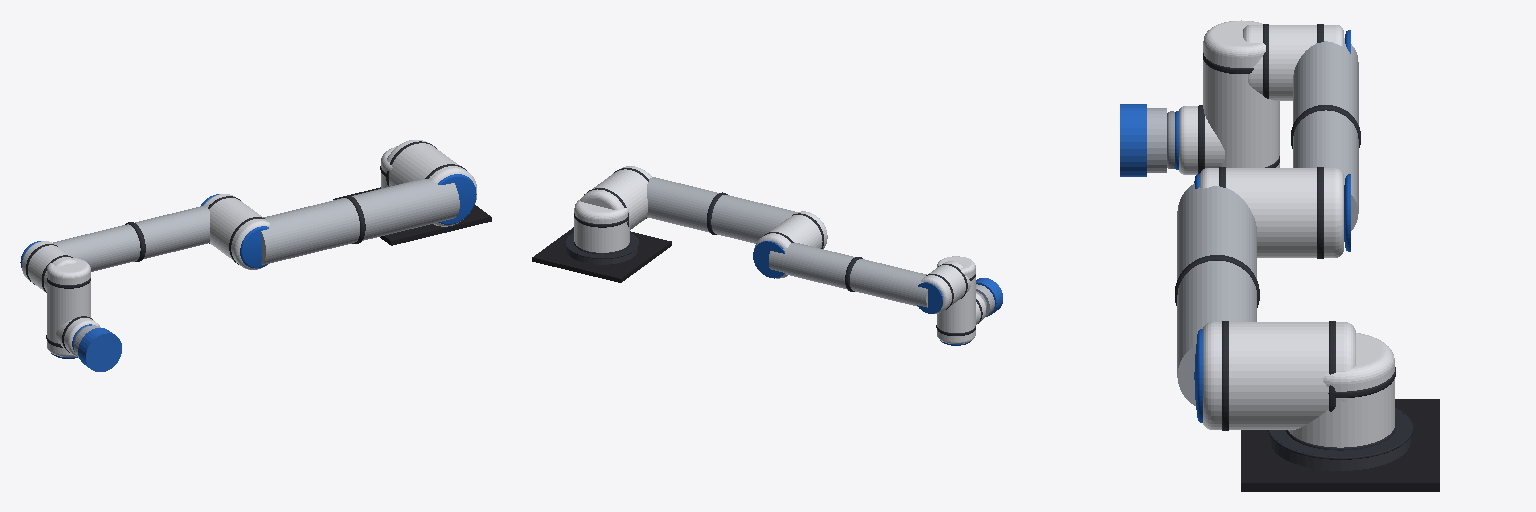
The robot description file, URDF, robot "sixaxis_ur5like":
<?xml version="1.0"?>
<robot name="sixaxis_ur5like">
  <material name="housing"><color rgba="0.86 0.87 0.89 1.0"/></material>
  <material name="tube"><color rgba="0.72 0.74 0.77 1.0"/></material>
  <material name="cap"><color rgba="0.16 0.42 0.78 1.0"/></material>
  <material name="ring"><color rgba="0.22 0.23 0.26 1.0"/></material>
  <material name="base"><color rgba="0.28 0.29 0.32 1.0"/></material>
  <material name="plate"><color rgba="0.18 0.18 0.2 1.0"/></material>
  <material name="flange"><color rgba="0.62 0.64 0.67 1.0"/></material>
  <material name="tcp"><color rgba="0.95 0.55 0.1 1.0"/></material>
  <link name="base_link">
    <inertial><mass value="1"/><inertia ixx="1" iyy="1" izz="1" ixy="0" ixz="0" iyz="0"/></inertial>
    <visual><origin xyz="0.0 0.0 0.005" rpy="0.0 0.0 0.0"/><geometry><box size="0.22 0.22 0.01"/></geometry><material name="plate"/></visual>
    <collision><origin xyz="0.0 0.0 0.005" rpy="0.0 0.0 0.0"/><geometry><box size="0.22 0.22 0.01"/></geometry></collision>
    <visual><origin xyz="0.0 0.0 0.0185" rpy="0.0 0.0 0.0"/><geometry><mesh filename="meshes/housing_L0170_R0780.obj" scale="1 1 1"/></geometry><material name="base"/></visual>
    <collision><origin xyz="0.0 0.0 0.0185" rpy="0.0 0.0 0.0"/><geometry><cylinder length="0.017" radius="0.078"/></geometry></collision>
    <visual><origin xyz="0.0 0.0 0.0255" rpy="0.0 0.0 0.0"/><geometry><mesh filename="meshes/ring_L0030_R0800.obj" scale="1 1 1"/></geometry><material name="ring"/></visual>
  </link>
  <link name="link1">
    <inertial><origin xyz="0.0 0.0 0.0445795" rpy="0.0 0.0 0.0"/><mass value="3.7"/><inertia ixx="0.005781042578308333" iyy="0.005781042578308333" izz="0.00666" ixy="0" ixz="0" iyz="0"/></inertial>
    <visual><origin xyz="0.0 0.0 0.06" rpy="0.0 0.0 0.0"/><geometry><mesh filename="meshes/housing_L1200_R0600.obj" scale="1 1 1"/></geometry><material name="housing"/></visual>
    <collision><origin xyz="0.0 0.0 0.06" rpy="0.0 0.0 0.0"/><geometry><cylinder length="0.12" radius="0.06"/></geometry></collision>
    <visual><origin xyz="0.0 0.0 0.025999999999999995" rpy="0.0 0.0 0.0"/><geometry><mesh filename="meshes/ring_L0100_R0612.obj" scale="1 1 1"/></geometry><material name="ring"/></visual>
    <visual><origin xyz="0.0 0.0 0.094" rpy="0.0 0.0 0.0"/><geometry><mesh filename="meshes/ring_L0100_R0612.obj" scale="1 1 1"/></geometry><material name="ring"/></visual>
  </link>
  <link name="link2">
    <inertial><origin xyz="-0.2125 0.0 0.0" rpy="0.0 -1.5707963267948966 0.0"/><mass value="8.393"/><inertia ixx="0.13267934166666667" iyy="0.13267934166666667" izz="0.012694412500000002" ixy="0" ixz="0" iyz="0"/></inertial>
    <visual><origin xyz="0.0 0.0 0.068" rpy="0.0 0.0 0.0"/><geometry><mesh filename="meshes/housing_L1700_R0600.obj" scale="1 1 1"/></geometry><material name="housing"/></visual>
    <collision><origin xyz="0.0 0.0 0.068" rpy="0.0 0.0 0.0"/><geometry><cylinder length="0.17" radius="0.06"/></geometry></collision>
    <visual><origin xyz="0.0 0.0 0.008999999999999994" rpy="0.0 0.0 0.0"/><geometry><mesh filename="meshes/ring_L0100_R0612.obj" scale="1 1 1"/></geometry><material name="ring"/></visual>
    <visual><origin xyz="0.0 0.0 0.15600000000000003" rpy="0.0 0.0 0.0"/><geometry><mesh filename="meshes/cap_L0100_R0516.obj" scale="1 1 1"/></geometry><material name="cap"/></visual>
    <visual><origin xyz="0.0 0.0 0.127" rpy="0.0 0.0 0.0"/><geometry><mesh filename="meshes/ring_L0100_R0612.obj" scale="1 1 1"/></geometry><material name="ring"/></visual>
    <visual><origin xyz="-0.2125 0.0 0.13585" rpy="0.0 -1.5707963267948966 0.0"/><geometry><mesh filename="meshes/tube_L4250_R0440.obj" scale="1 1 1"/></geometry><material name="tube"/></visual>
    <collision><origin xyz="-0.2125 0.0 0.13585" rpy="0.0 -1.5707963267948966 0.0"/><geometry><cylinder length="0.425" radius="0.044"/></geometry></collision>
    <visual><origin xyz="-0.2125 0.0 0.13585" rpy="-0.0 1.5707963267948966 0.0"/><geometry><mesh filename="meshes/ring_L0120_R0470.obj" scale="1 1 1"/></geometry><material name="ring"/></visual>
  </link>
  <link name="link3">
    <inertial><origin xyz="-0.196125 0.0 0.0" rpy="0.0 -1.5707963267948966 0.0"/><mass value="2.275"/><inertia ixx="0.030321022265624994" iyy="0.030321022265624994" izz="0.0023034375" ixy="0" ixz="0" iyz="0"/></inertial>
    <visual><origin xyz="0.0 0.0 0.076" rpy="0.0 0.0 0.0"/><geometry><mesh filename="meshes/housing_L1600_R0500.obj" scale="1 1 1"/></geometry><material name="housing"/></visual>
    <collision><origin xyz="0.0 0.0 0.076" rpy="0.0 0.0 0.0"/><geometry><cylinder length="0.16" radius="0.05"/></geometry></collision>
    <visual><origin xyz="0.0 0.0 -0.007000000000000006" rpy="0.0 0.0 0.0"/><geometry><mesh filename="meshes/cap_L0100_R0430.obj" scale="1 1 1"/></geometry><material name="cap"/></visual>
    <visual><origin xyz="0.0 0.0 0.021999999999999992" rpy="0.0 0.0 0.0"/><geometry><mesh filename="meshes/ring_L0100_R0510.obj" scale="1 1 1"/></geometry><material name="ring"/></visual>
    <visual><origin xyz="0.0 0.0 0.159" rpy="0.0 0.0 0.0"/><geometry><mesh filename="meshes/cap_L0100_R0430.obj" scale="1 1 1"/></geometry><material name="cap"/></visual>
    <visual><origin xyz="0.0 0.0 0.13" rpy="0.0 0.0 0.0"/><geometry><mesh filename="meshes/ring_L0100_R0510.obj" scale="1 1 1"/></geometry><material name="ring"/></visual>
    <visual><origin xyz="-0.196125 0.0 0.016149999999999998" rpy="0.0 -1.5707963267948966 0.0"/><geometry><mesh filename="meshes/tube_L3922_R0360.obj" scale="1 1 1"/></geometry><material name="tube"/></visual>
    <collision><origin xyz="-0.196125 0.0 0.016149999999999998" rpy="0.0 -1.5707963267948966 0.0"/><geometry><cylinder length="0.39225" radius="0.036"/></geometry></collision>
    <visual><origin xyz="-0.196125 0.0 0.016149999999999998" rpy="-0.0 1.5707963267948966 0.0"/><geometry><mesh filename="meshes/ring_L0120_R0390.obj" scale="1 1 1"/></geometry><material name="ring"/></visual>
  </link>
  <link name="link4">
    <inertial><origin xyz="0.0 0.0 0.054575" rpy="0.0 0.0 0.0"/><mass value="1.219"/><inertia ixx="0.0016978356439583335" iyy="0.0016978356439583335" izz="0.0009752000000000001" ixy="0" ixz="0" iyz="0"/></inertial>
    <visual><origin xyz="0.0 0.0 0.052" rpy="0.0 0.0 0.0"/><geometry><mesh filename="meshes/housing_L1120_R0420.obj" scale="1 1 1"/></geometry><material name="housing"/></visual>
    <collision><origin xyz="0.0 0.0 0.052" rpy="0.0 0.0 0.0"/><geometry><cylinder length="0.112" radius="0.042"/></geometry></collision>
    <visual><origin xyz="0.0 0.0 -0.006999999999999999" rpy="0.0 0.0 0.0"/><geometry><mesh filename="meshes/cap_L0100_R0361.obj" scale="1 1 1"/></geometry><material name="cap"/></visual>
    <visual><origin xyz="0.0 0.0 0.021999999999999995" rpy="0.0 0.0 0.0"/><geometry><mesh filename="meshes/ring_L0100_R0428.obj" scale="1 1 1"/></geometry><material name="ring"/></visual>
    <visual><origin xyz="0.0 0.0 0.082" rpy="0.0 0.0 0.0"/><geometry><mesh filename="meshes/ring_L0100_R0428.obj" scale="1 1 1"/></geometry><material name="ring"/></visual>
  </link>
  <link name="link5">
    <inertial><origin xyz="0.0 0.0 0.047325" rpy="0.0 0.0 0.0"/><mass value="1.219"/><inertia ixx="0.001397646735625" iyy="0.001397646735625" izz="0.0009752000000000001" ixy="0" ixz="0" iyz="0"/></inertial>
    <visual><origin xyz="0.0 0.0 0.0535" rpy="0.0 0.0 0.0"/><geometry><mesh filename="meshes/housing_L1770_R0420.obj" scale="1 1 1"/></geometry><material name="housing"/></visual>
    <collision><origin xyz="0.0 0.0 0.0535" rpy="0.0 0.0 0.0"/><geometry><cylinder length="0.177" radius="0.042"/></geometry></collision>
    <visual><origin xyz="0.0 0.0 -0.009000000000000001" rpy="0.0 0.0 0.0"/><geometry><mesh filename="meshes/ring_L0100_R0428.obj" scale="1 1 1"/></geometry><material name="ring"/></visual>
    <visual><origin xyz="0.0 0.0 0.145" rpy="0.0 0.0 0.0"/><geometry><mesh filename="meshes/cap_L0100_R0361.obj" scale="1 1 1"/></geometry><material name="cap"/></visual>
    <visual><origin xyz="0.0 0.0 0.11599999999999999" rpy="0.0 0.0 0.0"/><geometry><mesh filename="meshes/ring_L0100_R0428.obj" scale="1 1 1"/></geometry><material name="ring"/></visual>
  </link>
  <link name="link6">
    <inertial><origin xyz="0.0 0.0 0.04115" rpy="0.0 0.0 0.0"/><mass value="0.1879"/><inertia ixx="0.00016360280758333335" iyy="0.00016360280758333335" izz="0.00011508875000000002" ixy="0" ixz="0" iyz="0"/></inertial>
    <visual><origin xyz="0.0 0.0 0.0275" rpy="0.0 0.0 0.0"/><geometry><mesh filename="meshes/housing_L0850_R0380.obj" scale="1 1 1"/></geometry><material name="housing"/></visual>
    <collision><origin xyz="0.0 0.0 0.0275" rpy="0.0 0.0 0.0"/><geometry><cylinder length="0.085" radius="0.038"/></geometry></collision>
    <visual><origin xyz="0.0 0.0 0.010999999999999996" rpy="0.0 0.0 0.0"/><geometry><mesh filename="meshes/ring_L0100_R0388.obj" scale="1 1 1"/></geometry><material name="ring"/></visual>
    <visual><origin xyz="0.0 0.0 0.073" rpy="0.0 0.0 0.0"/><geometry><mesh filename="meshes/cap_L0100_R0327.obj" scale="1 1 1"/></geometry><material name="cap"/></visual>
    <visual><origin xyz="0.0 0.0 0.044000000000000004" rpy="0.0 0.0 0.0"/><geometry><mesh filename="meshes/ring_L0100_R0388.obj" scale="1 1 1"/></geometry><material name="ring"/></visual>
    <visual><origin xyz="0.0 0.0 0.07629999999999999" rpy="0.0 0.0 0.0"/><geometry><mesh filename="meshes/ring_L0120_R0320.obj" scale="1 1 1"/></geometry><material name="flange"/></visual>
    <collision><origin xyz="0.0 0.0 0.07629999999999999" rpy="0.0 0.0 0.0"/><geometry><cylinder length="0.012" radius="0.032"/></geometry></collision>
    <visual><origin xyz="0.0 0.0 0.0818" rpy="0.0 0.0 0.0"/><geometry><cylinder length="0.001" radius="0.01"/></geometry><material name="tcp"/></visual>
  </link>
  <link name="flange"><inertial><mass value="1e-06"/><inertia ixx="1e-12" iyy="1e-12" izz="1e-12" ixy="0" ixz="0" iyz="0"/></inertial></link>
  <joint name="joint1" type="revolute"><parent link="base_link"/><child link="link1"/><origin xyz="0.0 0.0 0.0" rpy="0.0 0.0 0.0"/><axis xyz="0 0 1"/><limit lower="-6.283185307179586" upper="6.283185307179586" effort="150.0" velocity="3.141592653589793"/></joint>
  <joint name="joint2" type="revolute"><parent link="link1"/><child link="link2"/><origin xyz="0.0 0.0 0.089159" rpy="1.5707963267948966 0.0 0.0"/><axis xyz="0 0 1"/><limit lower="-6.283185307179586" upper="6.283185307179586" effort="150.0" velocity="3.141592653589793"/></joint>
  <joint name="joint3" type="revolute"><parent link="link2"/><child link="link3"/><origin xyz="-0.425 0.0 0.0" rpy="0.0 0.0 0.0"/><axis xyz="0 0 1"/><limit lower="-6.283185307179586" upper="6.283185307179586" effort="150.0" velocity="3.141592653589793"/></joint>
  <joint name="joint4" type="revolute"><parent link="link3"/><child link="link4"/><origin xyz="-0.39225 0.0 0.0" rpy="0.0 0.0 0.0"/><axis xyz="0 0 1"/><limit lower="-6.283185307179586" upper="6.283185307179586" effort="28.0" velocity="3.141592653589793"/></joint>
  <joint name="joint5" type="revolute"><parent link="link4"/><child link="link5"/><origin xyz="0.0 0.0 0.10915" rpy="1.5707963267948966 0.0 0.0"/><axis xyz="0 0 1"/><limit lower="-6.283185307179586" upper="6.283185307179586" effort="28.0" velocity="3.141592653589793"/></joint>
  <joint name="joint6" type="revolute"><parent link="link5"/><child link="link6"/><origin xyz="0.0 0.0 0.09465" rpy="-1.5707963267948966 0.0 0.0"/><axis xyz="0 0 1"/><limit lower="-6.283185307179586" upper="6.283185307179586" effort="28.0" velocity="3.141592653589793"/></joint>
  <joint name="flange_joint" type="fixed"><parent link="link6"/><child link="flange"/><origin xyz="0.0 0.0 0.0823" rpy="0.0 0.0 0.0"/></joint>
  <material name="ptft"><color rgba="0.72 0.74 0.78 1"/></material>
  <material name="ptrcc"><color rgba="0.20 0.45 0.80 1"/></material>
  <link name="peg_tool"><inertial><mass value="0.9"/><origin xyz="0 0 0.0260"/><inertia ixx="0.000478" iyy="0.000478" izz="6e-4" ixy="0" ixz="0" iyz="0"/></inertial><visual><origin xyz="0 0 0.011000"/><geometry><cylinder length="0.022000" radius="0.036"/></geometry><material name="ptft"/></visual><collision><origin xyz="0 0 0.011000"/><geometry><cylinder length="0.022000" radius="0.036"/></geometry></collision><visual><origin xyz="0 0 0.037000"/><geometry><cylinder length="0.030000" radius="0.04"/></geometry><material name="ptrcc"/></visual><collision><origin xyz="0 0 0.037000"/><geometry><cylinder length="0.030000" radius="0.04"/></geometry></collision></link>
  <link name="tcp"><inertial><mass value="1e-6"/><inertia ixx="1e-12" iyy="1e-12" izz="1e-12" ixy="0" ixz="0" iyz="0"/></inertial></link>
  <joint name="peg_mount" type="fixed"><parent link="flange"/><child link="peg_tool"/></joint>
  <joint name="tcp_joint" type="fixed"><parent link="peg_tool"/><child link="tcp"/><origin xyz="0 0 0.152000000"/></joint>
</robot>

--- Facts derived from the render (not from the file) ---
The picture shows the robot from 3 angles, left to right: view 1: azimuth 30°, elevation 25°; view 2: azimuth 150°, elevation 25°; view 3: azimuth 270°, elevation 25°; orthographic projection.
Model sixaxis_ur5like with 10 links and 9 joints (6 revolute, 3 fixed), rooted at base_link, posed every joint at zero.
Links seen in each view (by area): view 1: link2, link3, link5, peg_tool, link4, base_link, link6; view 2: link2, link3, base_link, link1, link5, link4, peg_tool; view 3: link2, link3, base_link, link5, link1, link4, peg_tool, link6.
Boxes of the visible links, x1=… form: link2: x1=261, y1=140, x2=476, y2=264; link3: x1=53, y1=194, x2=269, y2=271; link5: x1=46, y1=258, x2=90, y2=358; peg_tool: x1=74, y1=325, x2=121, y2=371; link4: x1=20, y1=241, x2=76, y2=292; base_link: x1=333, y1=187, x2=491, y2=245; link6: x1=56, y1=316, x2=99, y2=356; link2: x1=580, y1=166, x2=796, y2=243; link3: x1=753, y1=211, x2=927, y2=307; base_link: x1=532, y1=227, x2=671, y2=282; link1: x1=574, y1=200, x2=630, y2=253; link5: x1=936, y1=256, x2=975, y2=345; link4: x1=917, y1=261, x2=970, y2=313; peg_tool: x1=976, y1=278, x2=1002, y2=317; link2: x1=1175, y1=183, x2=1355, y2=430; link3: x1=1194, y1=38, x2=1360, y2=258; base_link: x1=1241, y1=399, x2=1439, y2=491; link5: x1=1203, y1=20, x2=1279, y2=167; link1: x1=1286, y1=333, x2=1395, y2=450; link4: x1=1243, y1=24, x2=1350, y2=100; peg_tool: x1=1120, y1=104, x2=1166, y2=176; link6: x1=1167, y1=105, x2=1224, y2=174.
Size in the robot's own frame: 0.9701 by 0.3535 by 0.2112 metres.
31 mesh visuals loaded from 21 distinct referenced files (21 OBJ).
